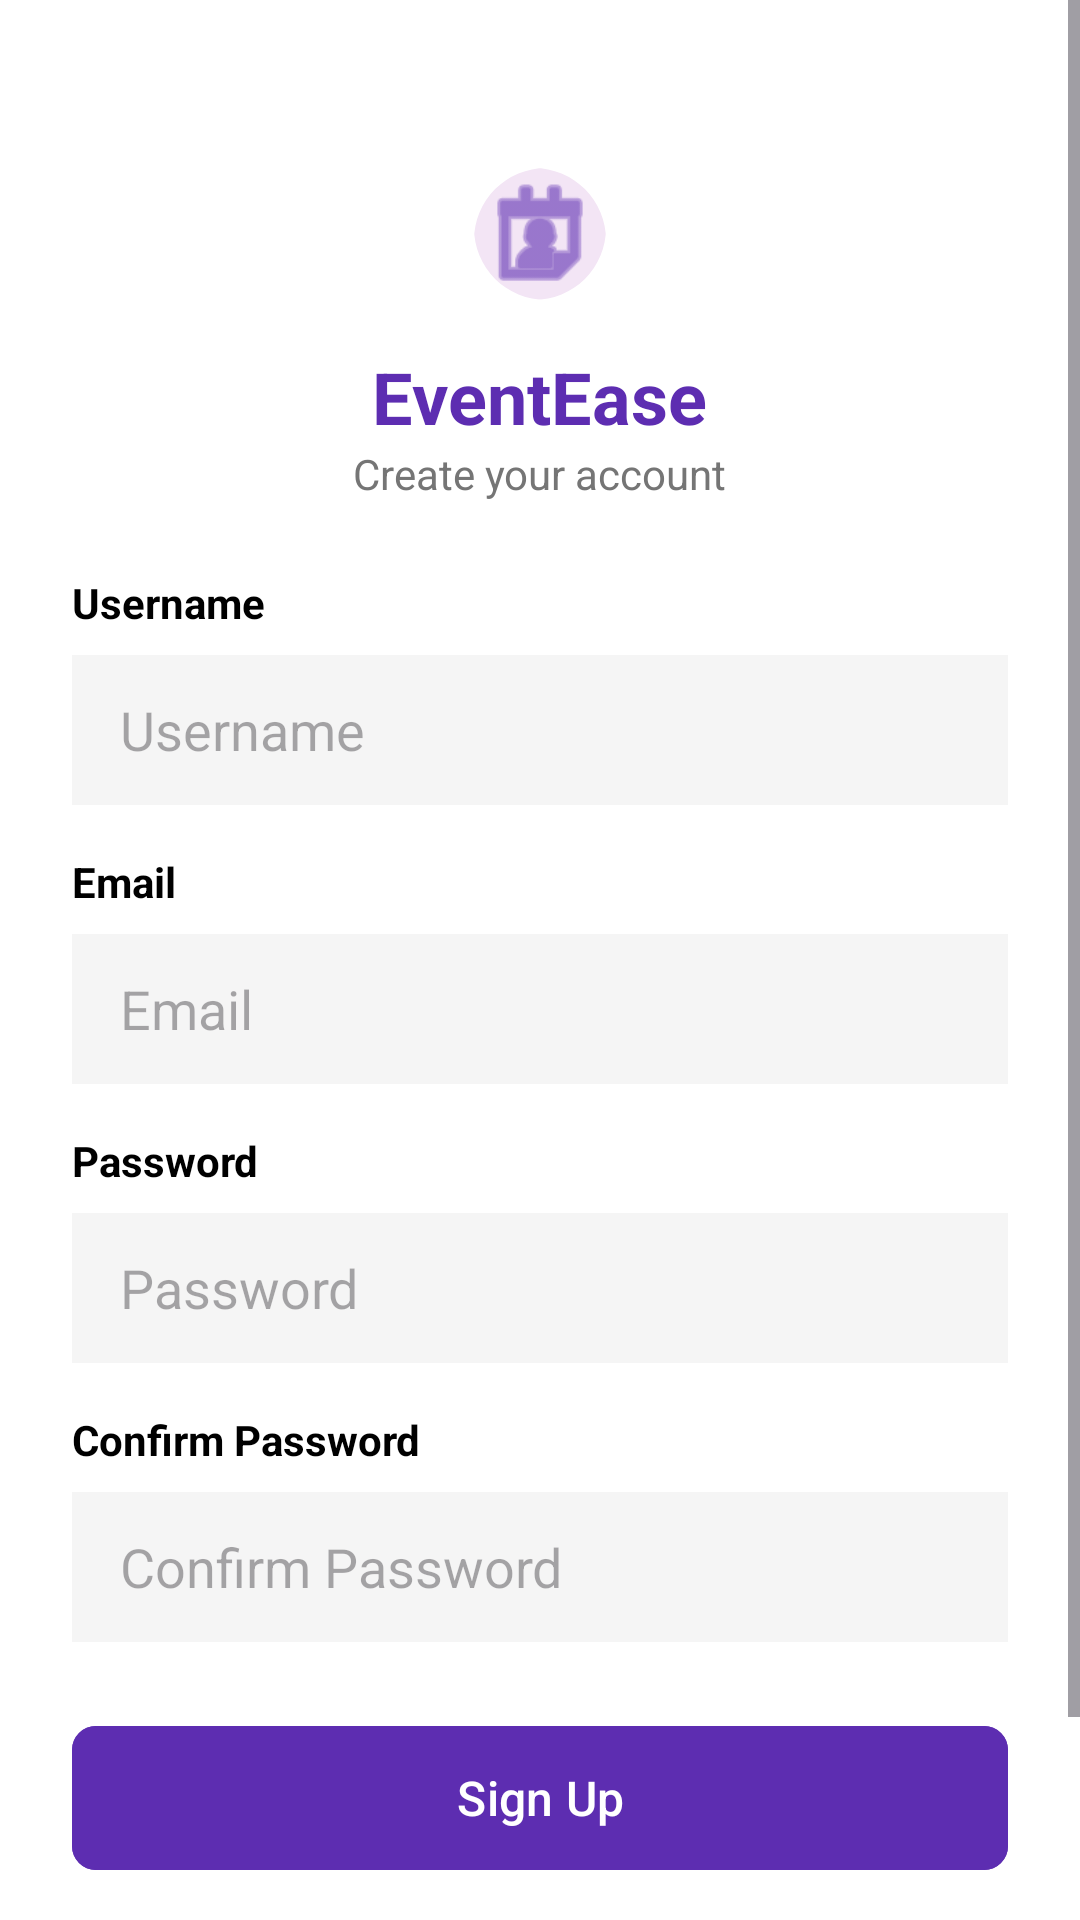

Icon bounding boxes for this 1080w x 1920h phone screenshot, format (x1, y1, x2, y2):
calendar: (475, 169, 605, 299)
